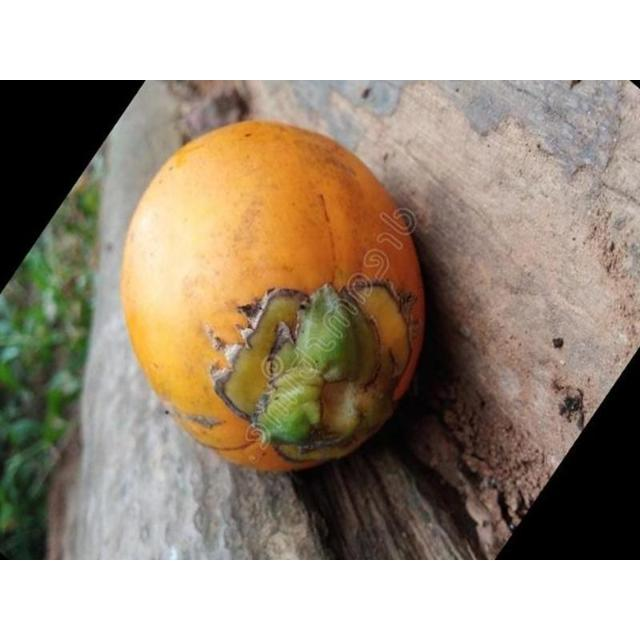good: (120, 119, 428, 477)
